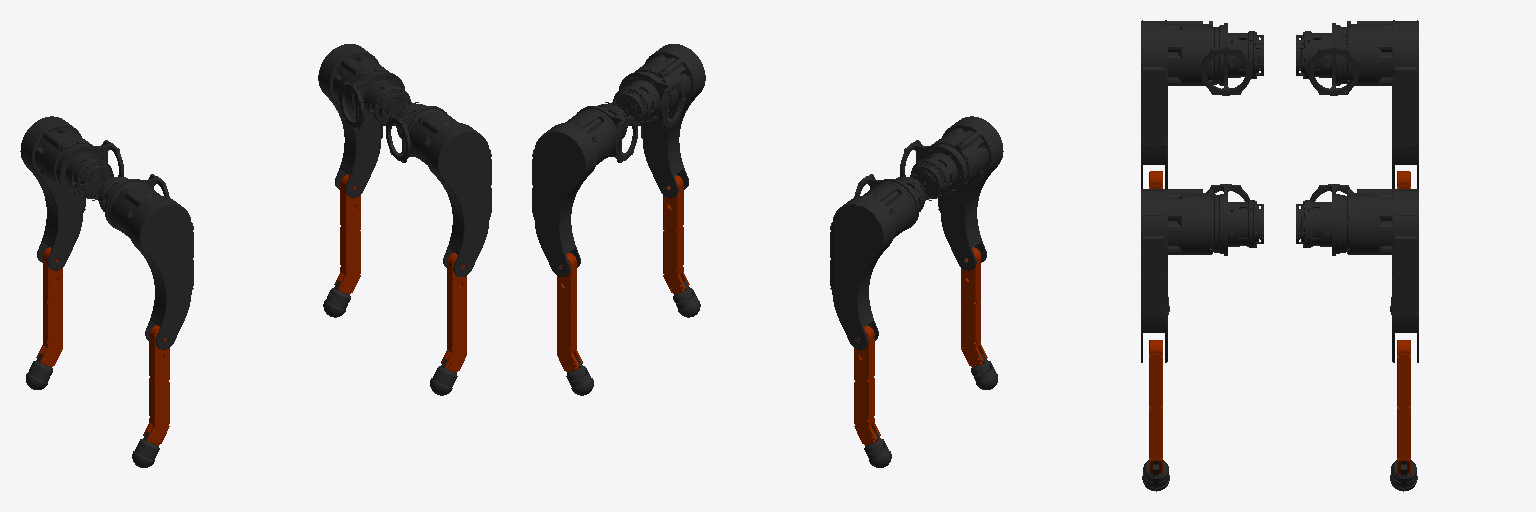
URDF robot description (tekirV3):
<?xml version="1.0" encoding="utf-8"?>
<!-- All knees looks in the same direction -->
<robot name="tekirV3">

  <material name="black">
    <color rgba="0.2 0.2 0.2 1"/>
  </material>
  <material name="auburn" >
    <color rgba="0.6039215686274509 0.18823529411764706 0.00392156862745098 1" />
  </material>
  <material name="olivedrab" >
    <color rgba="0.43529411764705883 0.4627450980392157 0.19607843137254902 1" />
  </material>


  <!--************ LINKS ************-->
  
  <link name="torso">
	  <inertial>
     <origin xyz="0.00145 0.003271 0.01792" rpy="0 0 0"/>  <!-- 0.00145 0.003271 0.01792 -->
     <mass value="20.516"/>
     <inertia ixx="0.41"  ixy="0.003"  ixz="-0.012" iyy="0.908" iyz="0.007" izz="1.192" />
    </inertial>
    <visual>
     <origin xyz="0 0 0" rpy="0 0 0" />
     <geometry>
      <mesh filename="../mesh/torso_rs.stl" scale="0.001 0.001 0.001"/>
     </geometry>
     <material name="black"></material>
    </visual>
    <collision>
     <origin xyz="0 0 0" rpy="0 0 0"/>
     <geometry>
       <box size="0.576 0.358 0.202"/>
     </geometry>
    </collision> 
  </link>

  <!-- Leg LF -->
  <link name="HIP_FE_Motor_lf">
	  <inertial>
     <origin xyz="0.075283 -0.015862 -0.000015" rpy="0 0 0"/>
     <mass value="1.681"/>
     <inertia ixx="0.003"  ixy="9.851e-5"  ixz="-1.213e-6" iyy="0.003" iyz="-1.327e-6" izz="0.003" />
    </inertial>
	  <visual>
     <origin xyz="0.079 0 0" rpy="0 0 1.57079632679" />
     <geometry>
       <mesh filename="../mesh/actuator_hip_fe.stl" scale="0.001 0.001 0.001"/>
     </geometry>
     <material name="black"></material>
    </visual>
	  <collision>
     <origin xyz="0.079 -0.0264 0" rpy="1.57079632679 0 0"/>
     <geometry>
       <cylinder radius="0.0625" length="0.1052"/>
     </geometry>
    </collision>
  </link>

  <link name="thigh_lf">
	  <inertial>
     <origin xyz="-0.003917 0.076506 -0.013793" rpy="0 0 0"/>
     <mass value="2.005"/>
     <inertia ixx="0.008"  ixy="-1.818e-4"  ixz="5.307e-4" iyy="0.007" iyz="0.001" izz="0.004" />
    </inertial>
	  <visual>
     <origin xyz="0 0 0" rpy="0 0 0" />
     <geometry>
       <mesh filename="../mesh/thigh_L.stl" scale="0.001 0.001 0.001"/>
     </geometry>
     <material name="black"></material>
    </visual>
	  <collision>
     <origin xyz="0 0.1136015 -0.135" rpy="0 0 0"/>
     <geometry>
       <box size="0.04 0.053203 0.27"/>
     </geometry>
    </collision>
  </link>

  <link name="shank_lf">
	  <inertial>
     <origin xyz="-0.015346 -0.000102 -0.186842" rpy="0 0 0"/>
     <mass value="0.21"/>
     <inertia ixx="0.002"  ixy="-7.048e-7"  ixz="-2.682e-4" iyy="0.002" iyz="-1.088e-5" izz="1.086e-4" />
    </inertial>
	  <visual>
     <origin xyz="0 0 0" rpy="0 0 1.57079632679" />
     <geometry>
       <mesh filename="../mesh/shank.stl" scale="0.001 0.001 0.001"/>
     </geometry>
     <material name="auburn"></material>
    </visual>
	  <collision>
     <origin xyz="0 0 -0.112141" rpy="0 0 0"/>
     <geometry>
       <box size="0.04 0.026 0.224282"/> 
     </geometry>
    </collision>
    <visual>
     <origin xyz="-0.0219665 0 -0.262329" rpy="0 0.52359877559 0" />
     <geometry>
       <mesh filename="../mesh/foot.stl" scale="0.001 0.001 0.001"/>
     </geometry>
     <material name="black"></material>
    </visual>
    <collision>
     <origin xyz="-0.0400655 0 -0.293677" rpy="0 0 0"/>
     <geometry>
       <sphere radius="0.027"/>
     </geometry>
    </collision>
  </link>

  <!-- Leg RF -->
  <link name="HIP_FE_Motor_rf">
	  <inertial>
     <origin xyz="0.075283 0.015862 -0.000015" rpy="0 0 0"/>
     <mass value="1.681"/>
     <inertia ixx="0.003"  ixy="9.851e-5"  ixz="-1.213e-6" iyy="0.003" iyz="-1.327e-6" izz="0.003" />
    </inertial>
	  <visual>
     <origin xyz="0.079 0 0" rpy="3.14159265 0 -1.57079632679" />
     <geometry>
       <mesh filename="../mesh/actuator_hip_fe.stl" scale="0.001 0.001 0.001"/>
     </geometry>
     <material name="black"></material>
    </visual>
	  <collision>
     <origin xyz="0.079 0.0264 0" rpy="1.57079632679 0 0"/>
     <geometry>
       <cylinder radius="0.0625" length="0.1052"/>
     </geometry>
    </collision>
  </link>

  <link name="thigh_rf">
	  <inertial>
     <origin xyz="-0.003917 -0.076506 -0.013793" rpy="0 0 0"/>
     <mass value="2.005"/>
     <inertia ixx="0.008"  ixy="-1.818e-4"  ixz="5.307e-4" iyy="0.007" iyz="0.001" izz="0.004" />
    </inertial>
	  <visual>
     <origin xyz="0 0 0" rpy="0 0 0" />
     <geometry>
       <mesh filename="../mesh/thigh_R.stl" scale="0.001 0.001 0.001"/>
     </geometry>
     <material name="black"></material>
    </visual>
	  <collision>
     <origin xyz="0 -0.1136015 -0.135" rpy="0 0 0"/>
     <geometry>
       <box size="0.04 0.053203 0.27"/>
     </geometry>
    </collision>
  </link>

  <link name="shank_rf">
	  <inertial>
     <origin xyz="-0.015346 0.000102 -0.186842" rpy="0 0 0"/>
     <mass value="0.21"/>
     <inertia ixx="0.002"  ixy="-7.048e-7"  ixz="-2.682e-4" iyy="0.002" iyz="-1.088e-5" izz="1.086e-4" />
    </inertial>
	  <visual>
     <origin xyz="0 0 0" rpy="0 0 1.57079632679" />
     <geometry>
       <mesh filename="../mesh/shank.stl" scale="0.001 0.001 0.001"/>
     </geometry>
     <material name="auburn"></material>
    </visual>
	  <collision>
     <origin xyz="0 0 -0.112141" rpy="0 0 0"/>
     <geometry>
       <box size="0.04 0.026 0.224282"/>
     </geometry>
    </collision>
    <visual>
     <origin xyz="-0.0219665 0 -0.262329" rpy="0 0.52359877559 0" />
     <geometry>
       <mesh filename="../mesh/foot.stl" scale="0.001 0.001 0.001"/>
     </geometry>
     <material name="black"></material>
    </visual>
    <collision>
     <origin xyz="-0.0400655 0 -0.293677" rpy="0 0 0"/>
     <geometry>
       <sphere radius="0.027"/>
     </geometry>
    </collision>
  </link>

  <!-- Leg LB -->
  <link name="HIP_FE_Motor_lb">
	  <inertial>
     <origin xyz="-0.075283 -0.015862 -0.000015" rpy="0 0 0"/>
     <mass value="1.681"/>
     <inertia ixx="0.003"  ixy="9.851e-5"  ixz="-1.213e-6" iyy="0.003" iyz="-1.327e-6" izz="0.003" />
    </inertial>
	  <visual>
     <origin xyz="-0.079 0 0" rpy="0 3.14159265 -1.57079632679" />
     <geometry>
       <mesh filename="../mesh/actuator_hip_fe.stl" scale="0.001 0.001 0.001"/>
     </geometry>
     <material name="black"></material>
    </visual>
	  <collision>
     <origin xyz="-0.079 -0.0264 0" rpy="1.57079632679 0 0"/>
     <geometry>
       <cylinder radius="0.0625" length="0.1052"/>
     </geometry>
    </collision>
  </link>

  <link name="thigh_lb">
	  <inertial>
     <origin xyz="0.003917 0.076506 -0.013793" rpy="0 0 0"/>
     <mass value="2.005"/>
     <inertia ixx="0.008"  ixy="-1.818e-4"  ixz="5.307e-4" iyy="0.007" iyz="0.001" izz="0.004" />
    </inertial>
	  <visual>
     <origin xyz="0 0 0" rpy="0 0 0" />
     <geometry>
       <mesh filename="../mesh/thigh_L.stl" scale="0.001 0.001 0.001"/>
     </geometry>
     <material name="black"></material>
    </visual>
	  <collision>
     <origin xyz="0 0.1136015 -0.135" rpy="0 0 0"/>
     <geometry>
       <box size="0.04 0.053203 0.27"/>
     </geometry>
    </collision>
  </link>

  <link name="shank_lb">
	  <inertial>
     <origin xyz="-0.015346 -0.000102 -0.186842" rpy="0 0 0"/>
     <mass value="0.21"/>
     <inertia ixx="0.002"  ixy="-7.048e-7"  ixz="-2.682e-4" iyy="0.002" iyz="-1.088e-5" izz="1.086e-4" />
    </inertial>
	  <visual>
     <origin xyz="0 0 0" rpy="0 0 1.57079632679" />
     <geometry>
       <mesh filename="../mesh/shank.stl" scale="0.001 0.001 0.001"/>
     </geometry>
     <material name="auburn"></material>
    </visual>
	  <collision>
     <origin xyz="0 0 -0.112141" rpy="0 0 0"/>
     <geometry>
       <box size="0.04 0.026 0.224282"/>
     </geometry>
    </collision>
    <visual>
     <origin xyz="-0.0219665 0 -0.262329" rpy="0 0.52359877559 0" />
     <geometry>
       <mesh filename="../mesh/foot.stl" scale="0.001 0.001 0.001"/>
     </geometry>
     <material name="black"></material>
    </visual>
    <collision>
     <origin xyz="-0.0400655 0 -0.293677" rpy="0 0 0"/>
     <geometry>
       <sphere radius="0.027"/>
     </geometry>
    </collision>
  </link>

  <!-- Leg RB -->
  <link name="HIP_FE_Motor_rb">
	  <inertial>
     <origin xyz="-0.075283 0.015862 -0.000015" rpy="0 0 0"/>
     <mass value="1.681"/>
     <inertia ixx="0.003"  ixy="9.851e-5"  ixz="-1.213e-6" iyy="0.003" iyz="-1.327e-6" izz="0.003" />
    </inertial>
	  <visual>
     <origin xyz="-0.079 0 0" rpy="0 0 -1.57079632679" />
     <geometry>
       <mesh filename="../mesh/actuator_hip_fe.stl" scale="0.001 0.001 0.001"/>
     </geometry>
     <material name="black"></material>
    </visual>
	  <collision>
     <origin xyz="-0.079 0.0264 0" rpy="1.57079632679 0 0"/>
     <geometry>
       <cylinder radius="0.0625" length="0.1052"/>
     </geometry>
    </collision>
  </link>

  <link name="thigh_rb">
	  <inertial>
     <origin xyz="0.003917 -0.076506 -0.013793" rpy="0 0 0"/>
     <mass value="2.005"/>
     <inertia ixx="0.008"  ixy="-1.818e-4"  ixz="5.307e-4" iyy="0.007" iyz="0.001" izz="0.004" />
    </inertial>
	  <visual>
     <origin xyz="0 0 0" rpy="0 0 0" />
     <geometry>
       <mesh filename="../mesh/thigh_R.stl" scale="0.001 0.001 0.001"/>
     </geometry>
     <material name="black"></material>
    </visual>
	  <collision>
     <origin xyz="0 -0.1136015 -0.135" rpy="0 0 0"/>
     <geometry>
       <box size="0.04 0.053203 0.27"/>
     </geometry>
    </collision>
  </link>

  <link name="shank_rb">
	  <inertial>
     <origin xyz="-0.015346 0.000102 -0.186842" rpy="0 0 0"/>
     <mass value="0.21"/>
     <inertia ixx="0.002"  ixy="-7.048e-7"  ixz="-2.682e-4" iyy="0.002" iyz="-1.088e-5" izz="1.086e-4" />
    </inertial>
	  <visual>
     <origin xyz="0 0 0" rpy="0 0 1.57079632679" />
     <geometry>
       <mesh filename="../mesh/shank.stl" scale="0.001 0.001 0.001"/>
     </geometry>
     <material name="auburn"></material>
    </visual>
	  <collision>
     <origin xyz="0 0 -0.112141" rpy="0 0 0"/>
     <geometry>
       <box size="0.04 0.026 0.224282"/>
     </geometry>
    </collision>
    <visual>
     <origin xyz="-0.0219665 0 -0.262329" rpy="0 0.52359877559 0" />
     <geometry>
       <mesh filename="../mesh/foot.stl" scale="0.001 0.001 0.001"/>
     </geometry>
     <material name="black"></material>
    </visual>
    <collision>
     <origin xyz="-0.0400655 0 -0.293677" rpy="0 0 0"/>
     <geometry>
       <sphere radius="0.027"/>
     </geometry>
    </collision>
  </link>

  
  <!--************ JOINTS ************-->

  <!-- Leg LF -->
  <joint name="Joint_HIP_AA_lf" type="revolute">
    <parent link="torso"/>
    <child link="HIP_FE_Motor_lf"/>
    <axis xyz="1 0 0"/>
    <origin xyz="0.3102 0.105 0.002" rpy="0 0 0"/>
    <limit effort="50" lower="0" upper="0" velocity="8.29031393750349"/>
    <dynamics damping="0.0" friction="0.0" rotor_inertia="0.016506"/>
  </joint>

  <joint name="Joint_HIP_FE_lf" type="revolute">
    <parent link="HIP_FE_Motor_lf"/>
    <child link="thigh_lf"/>
    <axis xyz="0 1 0"/>
    <origin xyz="0.079 0.0262 0" rpy="0 0 0"/>
    <limit effort="50" lower="0" upper="0" velocity="8.29031393750349"/>
    <dynamics damping="0.0" friction="0.0" rotor_inertia="0.016506"/>
  </joint>

  <joint name="Joint_KNEE_FE_lf" type="revolute">
    <parent link="thigh_lf"/>
    <child link="shank_lf"/>
    <axis xyz="0 1 0"/>
    <origin xyz="0 0.1102 -0.27" rpy="0 0 0"/>
    <limit effort="50" lower="0" upper="0" velocity="8.29031393750349"/>
    <dynamics damping="0.0" friction="0.0" rotor_inertia="0.016506"/>
  </joint>

  <!-- Leg RF -->
  <joint name="Joint_HIP_AA_rf" type="revolute">
    <parent link="torso"/>
    <child link="HIP_FE_Motor_rf"/>
    <axis xyz="1 0 0"/>
    <origin xyz="0.3102 -0.105 0.002" rpy="0 0 0"/>
    <limit effort="50" lower="0" upper="0" velocity="8.29031393750349"/>
    <dynamics damping="0.0" friction="0.0" rotor_inertia="0.016506"/>
  </joint>

  <joint name="Joint_HIP_FE_rf" type="revolute">
    <parent link="HIP_FE_Motor_rf"/>
    <child link="thigh_rf"/>
    <axis xyz="0 -1 0"/>
    <origin xyz="0.079 -0.0262 0" rpy="0 0 0"/>
    <limit effort="50" lower="0" upper="0" velocity="8.29031393750349"/>
    <dynamics damping="0.0" friction="0.0" rotor_inertia="0.016506"/>
  </joint>

  <joint name="Joint_KNEE_FE_rf" type="revolute">
    <parent link="thigh_rf"/>
    <child link="shank_rf"/>
    <axis xyz="0 -1 0"/>
    <origin xyz="0 -0.1102 -0.27" rpy="0 0 0"/>
    <limit effort="50" lower="0" upper="0" velocity="8.29031393750349"/>
    <dynamics damping="0.0" friction="0.0" rotor_inertia="0.016506"/>
  </joint>
  
  <!-- Leg LB -->
  <joint name="Joint_HIP_AA_lb" type="revolute">
    <parent link="torso"/>
    <child link="HIP_FE_Motor_lb"/>
    <axis xyz="-1 0 0"/>
    <origin xyz="-0.3102 0.105 0.002" rpy="0 0 0"/>
    <limit effort="50" lower="0" upper="0" velocity="8.29031393750349"/>
    <dynamics damping="0.0" friction="0.0" rotor_inertia="0.016506"/>
  </joint>

  <joint name="Joint_HIP_FE_lb" type="revolute">
    <parent link="HIP_FE_Motor_lb"/>
    <child link="thigh_lb"/>
    <axis xyz="0 1 0"/>
    <origin xyz="-0.079 0.0262 0" rpy="0 0 0"/>
    <limit effort="50" lower="0" upper="0" velocity="8.29031393750349"/>
    <dynamics damping="0.0" friction="0.0" rotor_inertia="0.016506"/>
  </joint>

  <joint name="Joint_KNEE_FE_lb" type="revolute">
    <parent link="thigh_lb"/>
    <child link="shank_lb"/>
    <axis xyz="0 1 0"/>
    <origin xyz="0 0.1102 -0.27" rpy="0 0 0"/>
    <limit effort="50" lower="0" upper="0" velocity="8.29031393750349"/>
    <dynamics damping="0.0" friction="0.0" rotor_inertia="0.016506"/>
  </joint>
  
  <!-- Leg RB -->
  <joint name="Joint_HIP_AA_rb" type="revolute">
    <parent link="torso"/>
    <child link="HIP_FE_Motor_rb"/>
    <axis xyz="-1 0 0"/>
    <origin xyz="-0.3102 -0.105 0.002" rpy="0 0 0"/>
    <limit effort="50" lower="0" upper="0" velocity="8.29031393750349"/>
    <dynamics damping="0.0" friction="0.0" rotor_inertia="0.016506"/>
  </joint>

  <joint name="Joint_HIP_FE_rb" type="revolute">
    <parent link="HIP_FE_Motor_rb"/>
    <child link="thigh_rb"/>
    <axis xyz="0 -1 0"/>
    <origin xyz="-0.079 -0.0262 0" rpy="0 0 0"/>
    <limit effort="50" lower="0" upper="0" velocity="8.29031393750349"/>
    <dynamics damping="0.0" friction="0.0" rotor_inertia="0.016506"/>
  </joint>
  
  <joint name="Joint_KNEE_FE_rb" type="revolute">
    <parent link="thigh_rb"/>
    <child link="shank_rb"/>
    <axis xyz="0 -1 0"/>
    <origin xyz="0 -0.1102 -0.27" rpy="0 0 0"/>
    <limit effort="50" lower="0" upper="0" velocity="8.29031393750349"/>
    <dynamics damping="0.0" friction="0.0" rotor_inertia="0.016506"/>
  </joint>

</robot>

--- Render facts (derived) ---
The picture shows the robot from 3 angles, left to right: view 1: azimuth 30°, elevation 25°; view 2: azimuth 150°, elevation 25°; view 3: azimuth 270°, elevation 25°; orthographic projection.
Robot: tekirV3 — 13 links, 12 joints (12 revolute); root link torso; default pose: all joints at 0.
Visible links, largest first — view 1: thigh_rf, thigh_rb, thigh_lb, thigh_lf, shank_rb, shank_lf, HIP_FE_Motor_lf, shank_rf, shank_lb, HIP_FE_Motor_lb, HIP_FE_Motor_rf, HIP_FE_Motor_rb; view 2: thigh_lf, thigh_lb, thigh_rb, thigh_rf, shank_lb, shank_rf, HIP_FE_Motor_rf, shank_lf, shank_rb, HIP_FE_Motor_rb, HIP_FE_Motor_lf, HIP_FE_Motor_lb; view 3: thigh_lf, thigh_rf, thigh_lb, thigh_rb, HIP_FE_Motor_rb, HIP_FE_Motor_lb, HIP_FE_Motor_rf, HIP_FE_Motor_lf, shank_lf, shank_rf.
Link boxes in pixels (left/top/right/bottom): thigh_rf: left=410, top=112, right=491, bottom=276; thigh_rb: left=113, top=185, right=193, bottom=349; thigh_lb: left=20, top=116, right=91, bottom=270; thigh_lf: left=318, top=44, right=388, bottom=197; shank_rb: left=132, top=325, right=169, bottom=467; shank_lf: left=323, top=175, right=360, bottom=317; HIP_FE_Motor_lf: left=339, top=72, right=418, bottom=128; shank_rf: left=430, top=253, right=466, bottom=395; shank_lb: left=26, top=247, right=62, bottom=389; HIP_FE_Motor_lb: left=56, top=140, right=123, bottom=198; HIP_FE_Motor_rf: left=386, top=104, right=446, bottom=162; HIP_FE_Motor_rb: left=91, top=174, right=169, bottom=230; thigh_lf: left=532, top=112, right=613, bottom=276; thigh_lb: left=830, top=185, right=910, bottom=349; thigh_rb: left=932, top=116, right=1003, bottom=270; thigh_rf: left=635, top=44, right=705, bottom=197; shank_lb: left=854, top=325, right=891, bottom=467; shank_rf: left=663, top=175, right=700, bottom=317; HIP_FE_Motor_rf: left=605, top=72, right=684, bottom=128; shank_lf: left=557, top=253, right=593, bottom=395; shank_rb: left=961, top=247, right=997, bottom=389; HIP_FE_Motor_rb: left=900, top=140, right=967, bottom=198; HIP_FE_Motor_lf: left=577, top=104, right=637, bottom=162; HIP_FE_Motor_lb: left=854, top=174, right=932, bottom=230; thigh_lf: left=1347, top=189, right=1418, bottom=362; thigh_rf: left=1141, top=189, right=1212, bottom=362; thigh_lb: left=1347, top=20, right=1418, bottom=188; thigh_rb: left=1141, top=20, right=1212, bottom=188; HIP_FE_Motor_rb: left=1200, top=23, right=1263, bottom=95; HIP_FE_Motor_lb: left=1296, top=23, right=1359, bottom=95; HIP_FE_Motor_rf: left=1206, top=184, right=1263, bottom=255; HIP_FE_Motor_lf: left=1296, top=184, right=1353, bottom=255; shank_lf: left=1390, top=340, right=1417, bottom=491; shank_rf: left=1142, top=340, right=1169, bottom=491.
Size in the robot's own frame: 0.9194 by 0.5428 by 0.6591 metres.
Meshes: 6 distinct files referenced, 16 mesh visuals loaded (5 binary STL); not drawn: 1 (reference not matched to a file when rendering).